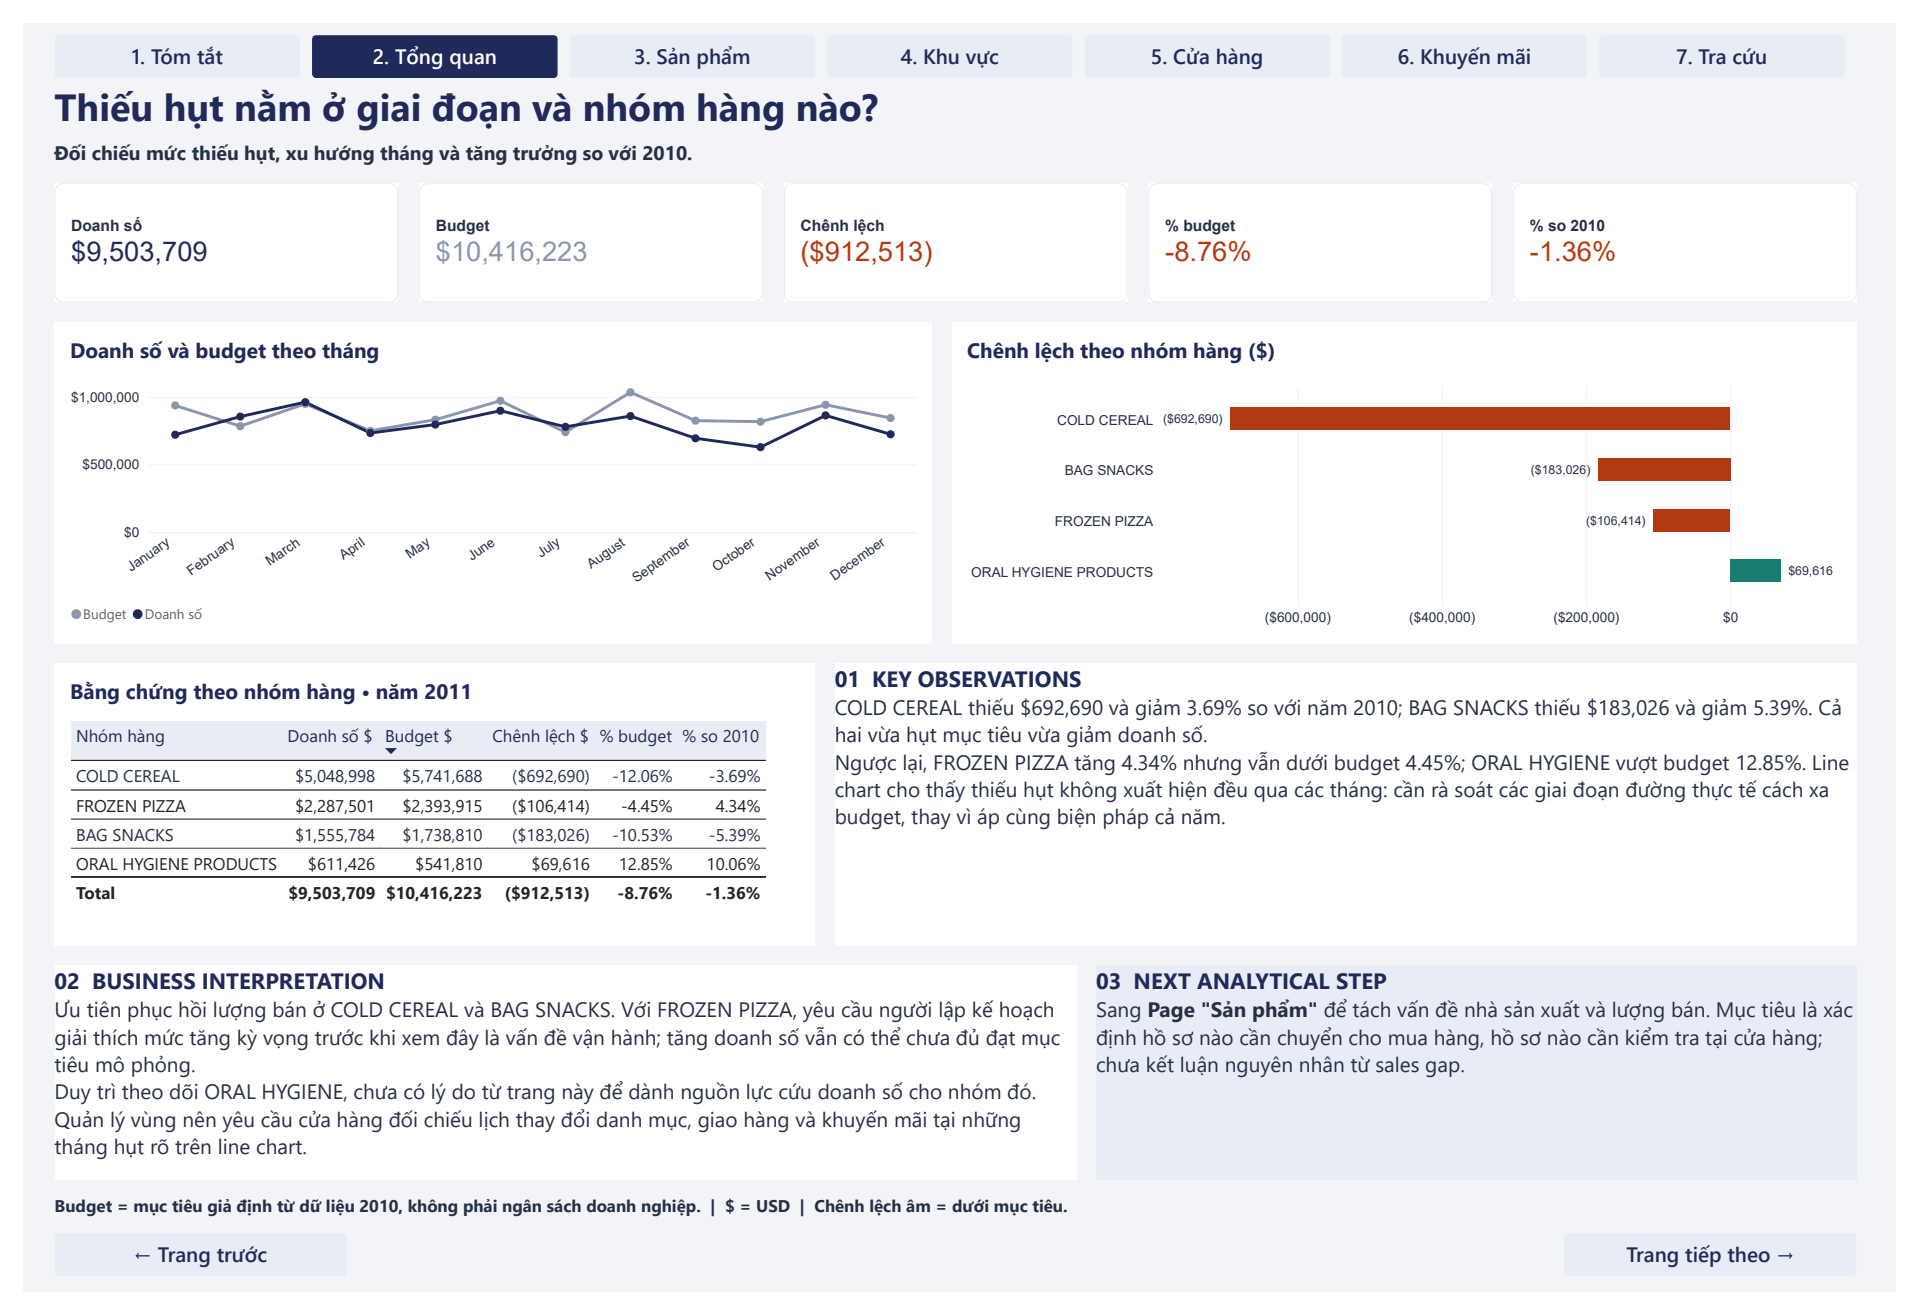

Layout of this report page (visuals, bound fields, positions):
{"tool":"powerbi","page":{"name":"Tổng Quan","canvas":[1920,1300],"ordinal":1},"visuals":[{"type":"cardVisual","fields":{"Data":["Fact_Transactions.Variance %"]},"box":[1154,164,352,122],"z":0},{"type":"textbox","box":[32,966,1048,220],"z":1000},{"type":"textbox","box":[832,656,1048,290],"z":2000},{"type":"cardVisual","fields":{"Data":["Fact_Transactions.Total Sales"]},"box":[32,164,352,122],"z":3000},{"type":"tableEx","title":"Bằng chứng theo nhóm hàng • năm 2011","fields":{"Values":["Dim_Category.CATEGORY","Fact_Transactions.Total Sales","Budget.Total Budget","Fact_Transactions.Variance","Fact_Transactions.Variance %","Budget.YoY %"]},"box":[32,656,780,290],"z":4000},{"type":"cardVisual","fields":{"Data":["Budget.Total Budget"]},"box":[406,164,352,122],"z":5000},{"type":"textbox","box":[1100,966,780,220],"z":6000},{"type":"textbox","box":[32,58,1848,60],"z":7000},{"type":"textbox","box":[32,118,1848,34],"z":8000},{"type":"cardVisual","fields":{"Data":["Fact_Transactions.Variance"]},"box":[780,164,352,122],"z":9000},{"type":"clusteredBarChart","title":"Chênh lệch theo nhóm hàng ($)","fields":{"Category":["Dim_Category.CATEGORY"],"Y":["Fact_Transactions.Variance"]},"box":[952,306,928,330],"z":10000},{"type":"lineChart","title":"Doanh số và budget theo tháng","fields":{"Category":["Dim_Date.Month Name"],"Y":["Budget.Total Budget","Fact_Transactions.Total Sales"]},"box":[32,306,900,330],"z":11000},{"type":"textbox","box":[32,1200,1848,30],"z":12000},{"type":"cardVisual","fields":{"Data":["Budget.YoY %"]},"box":[1528,164,352,122],"z":13000},{"type":"actionButton","box":[824,12,252,44],"z":14000},{"type":"actionButton","box":[560,12,252,44],"z":15000},{"type":"actionButton","box":[1352,12,252,44],"z":16000},{"type":"actionButton","box":[1088,12,252,44],"z":17000},{"type":"actionButton","box":[32,1240,300,44],"z":18000},{"type":"actionButton","box":[1580,1240,300,44],"z":19000},{"type":"actionButton","box":[32,12,252,44],"z":20000},{"type":"actionButton","box":[1616,12,252,44],"z":21000},{"type":"actionButton","box":[296,12,252,44],"z":22000}]}

Visuals, with their boxes in screenshot pixels (x1, y1, x2, y2), scaled from the page's 1920x1300 canvas onto the 1919x1315 screenshot:
cardVisual - Fact_Transactions.Variance %: <region>1153, 166, 1505, 289</region>
textbox: <region>32, 977, 1079, 1200</region>
textbox: <region>832, 664, 1879, 957</region>
cardVisual - Fact_Transactions.Total Sales: <region>32, 166, 384, 289</region>
"Bằng chứng theo nhóm hàng • năm 2011" tableEx: <region>32, 664, 812, 957</region>
cardVisual - Budget.Total Budget: <region>406, 166, 758, 289</region>
textbox: <region>1099, 977, 1879, 1200</region>
textbox: <region>32, 59, 1879, 119</region>
textbox: <region>32, 119, 1879, 154</region>
cardVisual - Fact_Transactions.Variance: <region>780, 166, 1131, 289</region>
"Chênh lệch theo nhóm hàng ($)" clusteredBarChart: <region>952, 310, 1879, 643</region>
"Doanh số và budget theo tháng" lineChart: <region>32, 310, 932, 643</region>
textbox: <region>32, 1214, 1879, 1244</region>
cardVisual - Budget.YoY %: <region>1527, 166, 1879, 289</region>
actionButton: <region>824, 12, 1075, 57</region>
actionButton: <region>560, 12, 812, 57</region>
actionButton: <region>1351, 12, 1603, 57</region>
actionButton: <region>1087, 12, 1339, 57</region>
actionButton: <region>32, 1254, 332, 1299</region>
actionButton: <region>1579, 1254, 1879, 1299</region>
actionButton: <region>32, 12, 284, 57</region>
actionButton: <region>1615, 12, 1867, 57</region>
actionButton: <region>296, 12, 548, 57</region>
